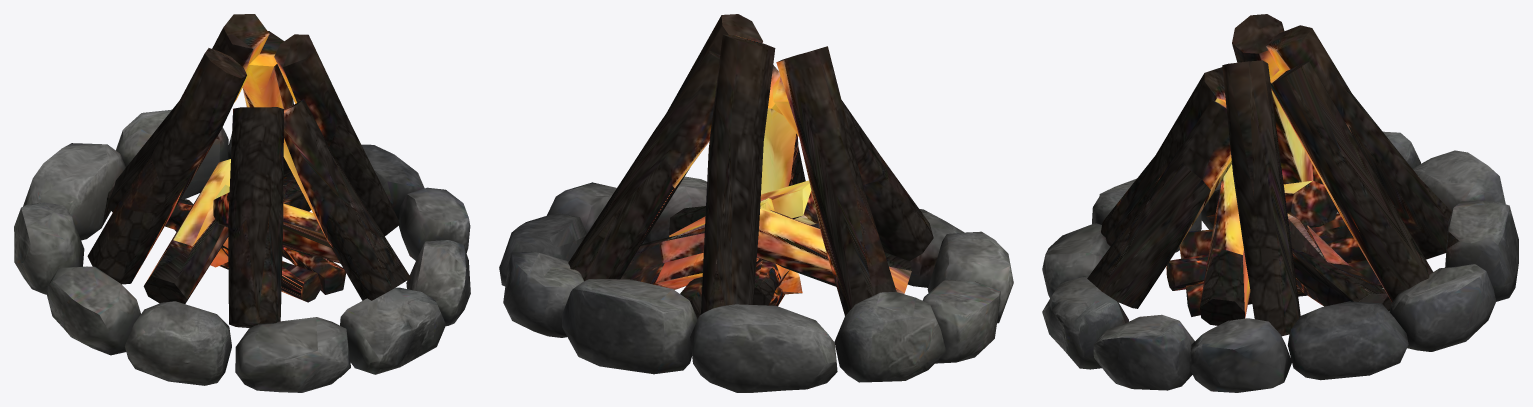
File: Campfire.glb
The picture shows the model from 3 angles, left to right: view 1: azimuth 30°, elevation 25°; view 2: azimuth 150°, elevation 25°; view 3: azimuth 270°, elevation 25°; orthographic projection. The views are drawn at different scales.
Parts seen in each view (by area): view 1: Campfire; view 2: Campfire; view 3: Campfire.
Part boxes in pixels (x1,y1,x2,y2): Campfire: (14, 14, 470, 392); Campfire: (499, 14, 1013, 392); Campfire: (1042, 14, 1518, 392).
Bounding box in the file's own units: 1.3 × 0.9 × 1.3.
Materials: 2 (2 with a texture image).
